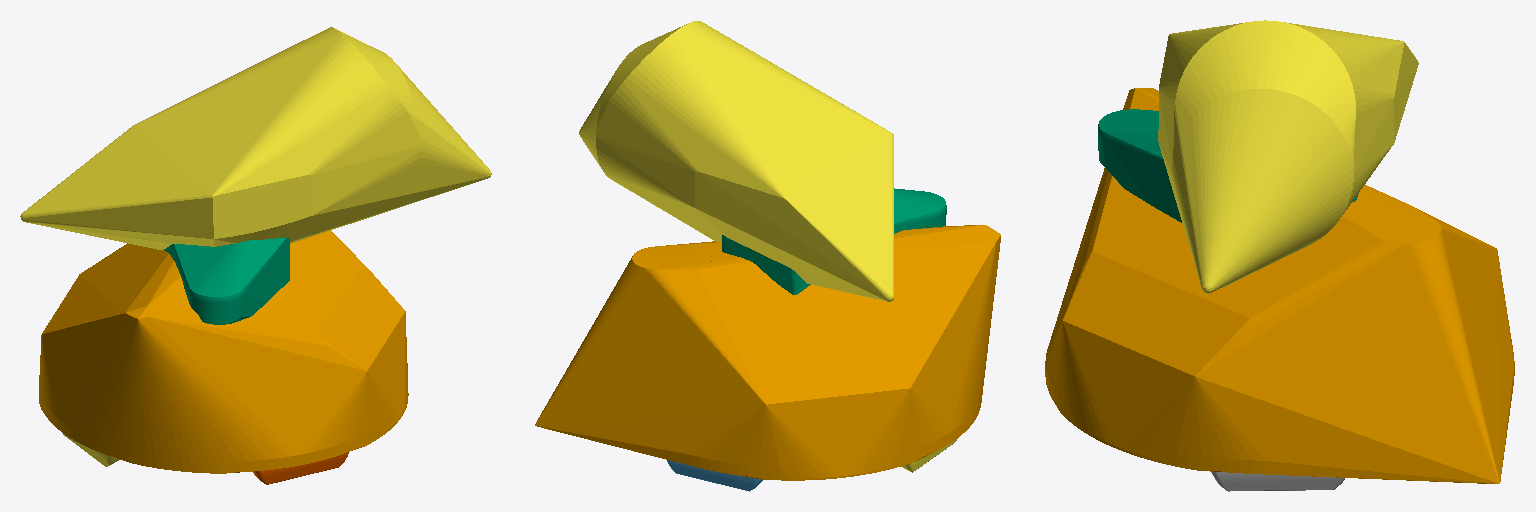
The robot description file, URDF, robot "sentry_v2":
<?xml version="1.0"?>
<!-- Generated by sim/tools/simplify_urdf.py from an Onshape export; do not edit. -->
<robot name="sentry_v2">
  <link name="root">
    <inertial><origin xyz="0.00355658 0.0017297 0.140094"/><mass value="4.36619"/><inertia ixx="0.0869601" ixy="0.00439031" ixz="0.00123469" iyy="0.0880764" iyz="0.000290053" izz="0.139084"/></inertial>
    <visual><geometry><mesh filename="package://sim/urdf/sentry_v2/meshes/root.stl"/></geometry></visual>
    <collision><geometry><mesh filename="package://sim/urdf/sentry_v2/meshes/collision/root.stl"/></geometry></collision>
  </link>
  <link name="body"/>
  <joint name="fastened_2" type="fixed"><parent link="root"/><child link="body"/><origin xyz="0 0 0"/></joint>
  <link name="head">
    <inertial><origin xyz="-0.0234968 -0.0318138 0.047578"/><mass value="1.30869"/><inertia ixx="0.0139946" ixy="-0.00384816" ixz="0.00145733" iyy="0.00794943" iyz="0.00206302" izz="0.0147945"/></inertial>
    <visual><geometry><mesh filename="package://sim/urdf/sentry_v2/meshes/head.stl"/></geometry></visual>
    <collision><geometry><mesh filename="package://sim/urdf/sentry_v2/meshes/collision/head.stl"/></geometry></collision>
  </link>
  <joint name="headlink" type="continuous"><parent link="body"/><child link="head"/><origin xyz="-0.000171242 9.52126e-05 0.248293"/><axis xyz="0 0 1"/></joint>
  <link name="head_pitch">
    <inertial><origin xyz="0.010768 0.0962738 0.0354966"/><mass value="1.50713"/><inertia ixx="0.0122617" ixy="-0.000502495" ixz="-0.00026901" iyy="0.00704508" iyz="-0.000299065" izz="0.0138715"/></inertial>
    <visual><geometry><mesh filename="package://sim/urdf/sentry_v2/meshes/head_pitch.stl"/></geometry></visual>
    <collision><geometry><mesh filename="package://sim/urdf/sentry_v2/meshes/collision/head_pitch.stl"/></geometry></collision>
  </link>
  <joint name="headpitch" type="revolute"><parent link="head"/><child link="head_pitch"/><origin xyz="-0.00760542 -0.100122 0.14235"/><axis xyz="0 1 0"/><limit lower="-0.6" upper="0.6" effort="200" velocity="10"/></joint>
  <link name="carrier_0">
    <inertial><origin xyz="0.00230416 0.0422971 -0.00518912"/><mass value="0.202003"/><inertia ixx="0.000255949" ixy="-2.49331e-05" ixz="-8.04149e-06" iyy="0.000364038" iyz="-4.56818e-05" izz="0.000411985"/></inertial>
    <visual><geometry><mesh filename="package://sim/urdf/sentry_v2/meshes/carrier_0.stl"/></geometry></visual>
  </link>
  <joint name="suspension_0" type="prismatic"><parent link="body"/><child link="carrier_0"/><origin xyz="6.61834e-09 -0.247 0.0954"/><axis xyz="0 0 1"/><limit lower="-0.02" upper="0.02" effort="1000" velocity="5"/><dynamics damping="60.0"/></joint>
  <link name="wheel_0">
    <inertial><origin xyz="-0.00017114 0.000967629 -0.000472395"/><mass value="0.23336"/><inertia ixx="0.000582497" ixy="-2.48037e-09" ixz="-2.12789e-10" iyy="0.0011439" iyz="-1.0027e-10" izz="0.00058339"/></inertial>
    <visual><geometry><mesh filename="package://sim/urdf/sentry_v2/meshes/wheel_0.stl"/></geometry></visual>
    <collision><geometry><sphere radius="0.0949"/></geometry></collision>
  </link>
  <joint name="wheel_0_spin" type="continuous"><parent link="carrier_0"/><child link="wheel_0"/><origin xyz="0 0 0"/><axis xyz="2.67949e-08 -1 0"/></joint>
  <link name="carrier_1">
    <inertial><origin xyz="-0.0423732 -0.00240972 -0.00518942"/><mass value="0.202003"/><inertia ixx="0.000364005" ixy="-2.51904e-05" ixz="4.56829e-05" iyy="0.000255951" iyz="8.44769e-06" izz="0.000411955"/></inertial>
    <visual><geometry><mesh filename="package://sim/urdf/sentry_v2/meshes/carrier_1.stl"/></geometry></visual>
  </link>
  <joint name="suspension_1" type="prismatic"><parent link="body"/><child link="carrier_1"/><origin xyz="0.247 6.61834e-09 0.0954"/><axis xyz="0 0 1"/><limit lower="-0.02" upper="0.02" effort="1000" velocity="5"/><dynamics damping="60.0"/></joint>
  <link name="wheel_1">
    <inertial><origin xyz="-0.00104353 9.41835e-05 -0.000473085"/><mass value="0.23336"/><inertia ixx="0.0011439" ixy="-6.87074e-11" ixz="-1.0507e-09" iyy="0.000582497" iyz="5.53747e-12" izz="0.00058339"/></inertial>
    <visual><geometry><mesh filename="package://sim/urdf/sentry_v2/meshes/wheel_1.stl"/></geometry></visual>
    <collision><geometry><sphere radius="0.0949"/></geometry></collision>
  </link>
  <joint name="wheel_1_spin" type="continuous"><parent link="carrier_1"/><child link="wheel_1"/><origin xyz="0 0 0"/><axis xyz="1 2.67949e-08 0"/></joint>
  <link name="carrier_2">
    <inertial><origin xyz="-0.00137027 -0.0414329 -0.00541422"/><mass value="0.199167"/><inertia ixx="0.000248734" ixy="-1.2694e-05" ixz="3.97166e-06" iyy="0.000340183" iyz="4.35324e-05" izz="0.000382362"/></inertial>
    <visual><geometry><mesh filename="package://sim/urdf/sentry_v2/meshes/carrier_2.stl"/></geometry></visual>
  </link>
  <joint name="suspension_2" type="prismatic"><parent link="body"/><child link="carrier_2"/><origin xyz="-6.61834e-09 0.247 0.0954"/><axis xyz="0 0 1"/><limit lower="-0.02" upper="0.02" effort="1000" velocity="5"/><dynamics damping="60.0"/></joint>
  <link name="wheel_2">
    <inertial><origin xyz="-0.000171244 -0.000779457 -0.000472177"/><mass value="0.23336"/><inertia ixx="0.000582497" ixy="5.95863e-10" ixz="3.43991e-11" iyy="0.0011439" iyz="6.36512e-10" izz="0.00058339"/></inertial>
    <visual><geometry><mesh filename="package://sim/urdf/sentry_v2/meshes/wheel_2.stl"/></geometry></visual>
    <collision><geometry><sphere radius="0.0949"/></geometry></collision>
  </link>
  <joint name="wheel_2_spin" type="continuous"><parent link="carrier_2"/><child link="wheel_2"/><origin xyz="0 0 0"/><axis xyz="-2.67949e-08 1 0"/></joint>
  <link name="carrier_3">
    <inertial><origin xyz="0.0413573 0.00132495 -0.00541309"/><mass value="0.199167"/><inertia ixx="0.000340171" ixy="-1.29563e-05" ixz="-4.35321e-05" iyy="0.00024873" iyz="-4.37986e-06" izz="0.000382349"/></inertial>
    <visual><geometry><mesh filename="package://sim/urdf/sentry_v2/meshes/carrier_3.stl"/></geometry></visual>
  </link>
  <joint name="suspension_3" type="prismatic"><parent link="body"/><child link="carrier_3"/><origin xyz="-0.247 -6.61834e-09 0.0954"/><axis xyz="0 0 1"/><limit lower="-0.02" upper="0.02" effort="1000" velocity="5"/><dynamics damping="60.0"/></joint>
  <link name="wheel_3">
    <inertial><origin xyz="0.000703275 9.45356e-05 -0.000472468"/><mass value="0.23336"/><inertia ixx="0.0011439" ixy="-1.36054e-09" ixz="-9.73242e-10" iyy="0.000582497" iyz="2.53416e-10" izz="0.00058339"/></inertial>
    <visual><geometry><mesh filename="package://sim/urdf/sentry_v2/meshes/wheel_3.stl"/></geometry></visual>
    <collision><geometry><sphere radius="0.0949"/></geometry></collision>
  </link>
  <joint name="wheel_3_spin" type="continuous"><parent link="carrier_3"/><child link="wheel_3"/><origin xyz="0 0 0"/><axis xyz="-1 -2.67949e-08 0"/></joint>
  <link name="armor_0"><visual><geometry><box size="0.00301404 0.135002 0.125002"/></geometry></visual><collision><geometry><box size="0.00301404 0.135002 0.125002"/></geometry></collision></link>
  <joint name="armor_0link" type="fixed"><parent link="root"/><child link="armor_0"/><origin xyz="0.178162 0.178426 0.230361" rpy="0 -0.261856 0.785329"/></joint>
  <link name="armor_1"><visual><geometry><box size="0.00301404 0.135002 0.125002"/></geometry></visual><collision><geometry><box size="0.00301404 0.135002 0.125002"/></geometry></collision></link>
  <joint name="armor_1link" type="fixed"><parent link="root"/><child link="armor_1"/><origin xyz="-0.177935 0.177863 0.135661" rpy="0 -0.261856 2.35613"/></joint>
  <link name="armor_2"><visual><geometry><box size="0.00301404 0.135002 0.125002"/></geometry></visual><collision><geometry><box size="0.00301404 0.135002 0.125002"/></geometry></collision></link>
  <joint name="armor_2link" type="fixed"><parent link="root"/><child link="armor_2"/><origin xyz="-0.178505 -0.178235 0.230361" rpy="0 -0.261856 -2.35627"/></joint>
  <link name="armor_3"><visual><geometry><box size="0.00301404 0.135002 0.125002"/></geometry></visual><collision><geometry><box size="0.00301404 0.135002 0.125002"/></geometry></collision></link>
  <joint name="armor_3link" type="fixed"><parent link="root"/><child link="armor_3"/><origin xyz="0.177593 -0.177673 0.135661" rpy="0 -0.261856 -0.785464"/></joint>
  <link name="lidar"/>
  <joint name="lidarlink" type="fixed"><parent link="head"/><child link="lidar"/><origin xyz="-0.119391 -0.18501 0.0968001"/></joint>
  <link name="camera"/>
  <joint name="cameralink" type="fixed"><parent link="head_pitch"/><child link="camera"/><origin xyz="0.0920381 0.0948673 0.0566588"/></joint>
</robot>

--- What the picture shows (computed from the rendered views, not written in the file) ---
The picture shows the robot from 3 angles, left to right: view 1: azimuth 30°, elevation 25°; view 2: azimuth 150°, elevation 25°; view 3: azimuth 270°, elevation 25°; orthographic projection.
Robot: sentry_v2 — 18 links, 17 joints (1 revolute, 5 continuous, 4 prismatic, 7 fixed); root link root; default pose: every joint at zero.
Visible links, largest first — view 1: root, head_pitch, head, wheel_0; view 2: root, head_pitch, head, wheel_2; view 3: root, head_pitch, head, wheel_1.
Boxes of the visible links, x1=… form: root: x1=39, y1=230, x2=408, y2=473; head_pitch: x1=20, y1=27, x2=491, y2=249; head: x1=164, y1=237, x2=289, y2=324; wheel_0: x1=253, y1=452, x2=348, y2=484; root: x1=535, y1=225, x2=1000, y2=480; head_pitch: x1=579, y1=21, x2=893, y2=301; head: x1=722, y1=188, x2=946, y2=294; wheel_2: x1=667, y1=460, x2=762, y2=491; root: x1=1045, y1=88, x2=1514, y2=483; head_pitch: x1=1158, y1=20, x2=1418, y2=293; head: x1=1098, y1=109, x2=1358, y2=222; wheel_1: x1=1211, y1=472, x2=1344, y2=491.
Size in the robot's own frame: 0.7413 by 0.595 by 0.6383 metres.
11 mesh visuals loaded from 11 distinct referenced files (11 binary STL).
